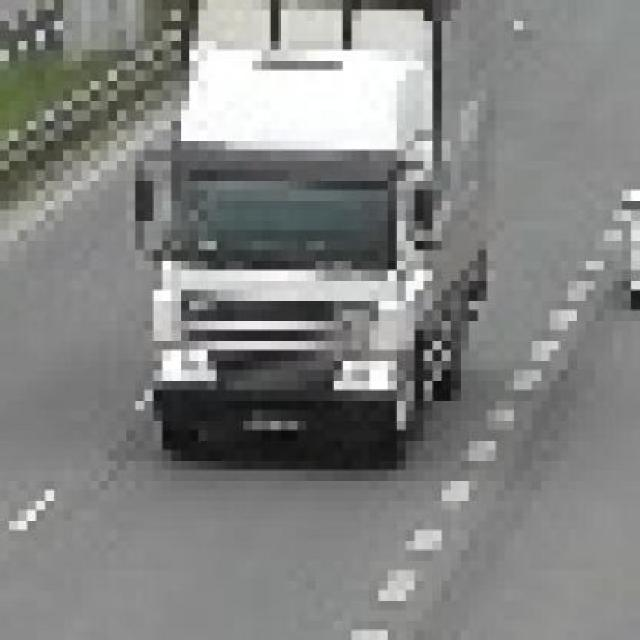truck: (126, 1, 487, 450)
